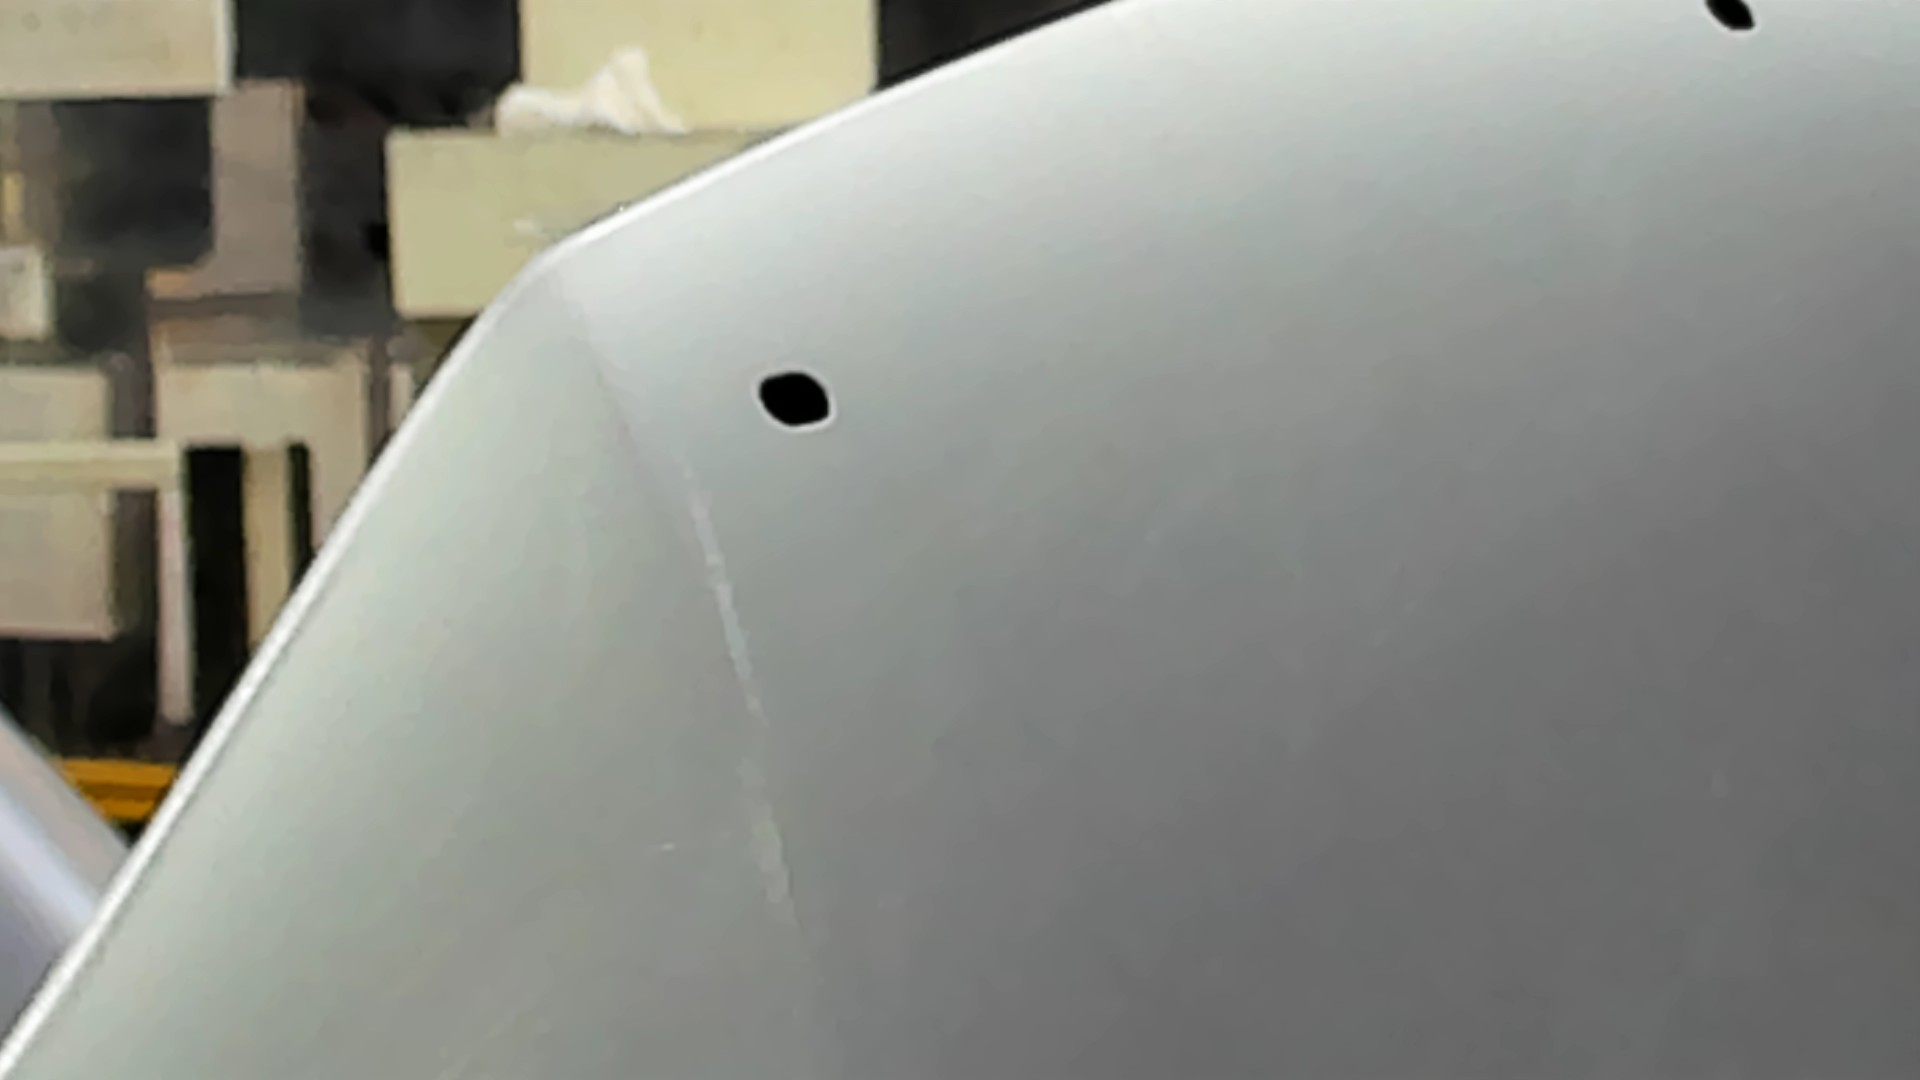amorfo: (748, 369, 843, 433), (1702, 1, 1763, 33)
